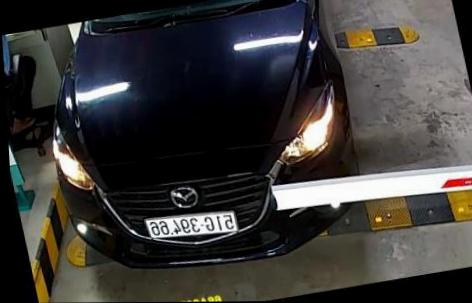License_Plate: (140, 205, 244, 248)
